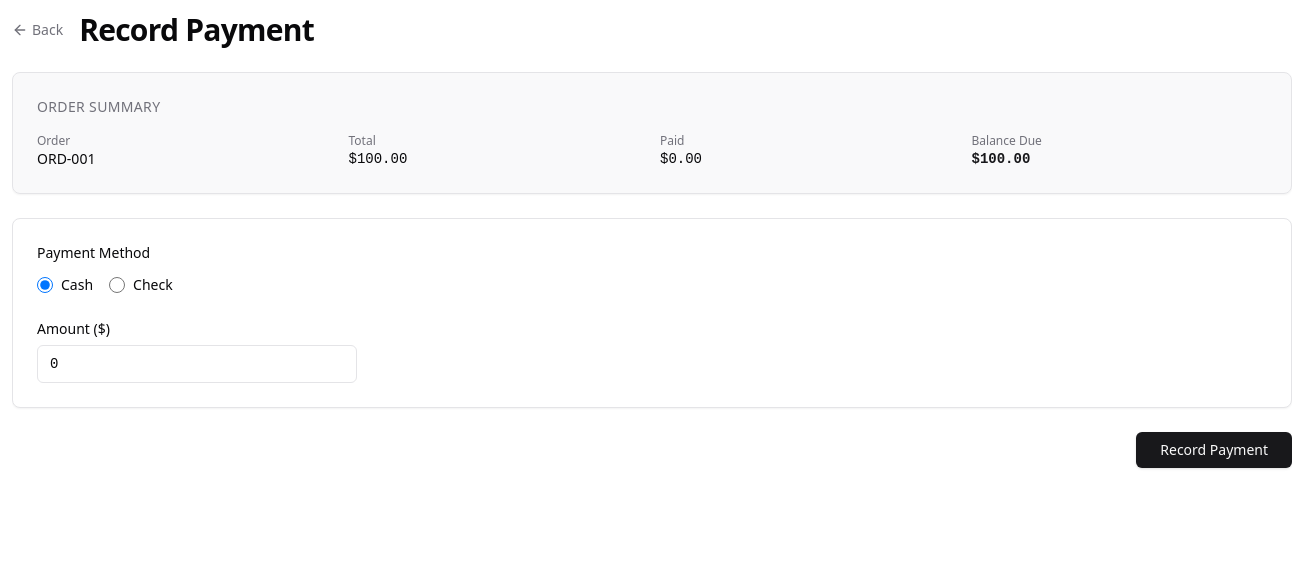
PaymentPage › shows check number field when Check is selected
This screenshot has width=1304, height=574.
Expected: the radio button labelled "Cash" is shown, x1=37 y1=277 x2=53 y2=293
Expected: the field labelled "Check Number" is not shown
# Select Check payment method
Click the radio button labelled "Check" at (117, 285), box x1=109 y1=277 x2=125 y2=293
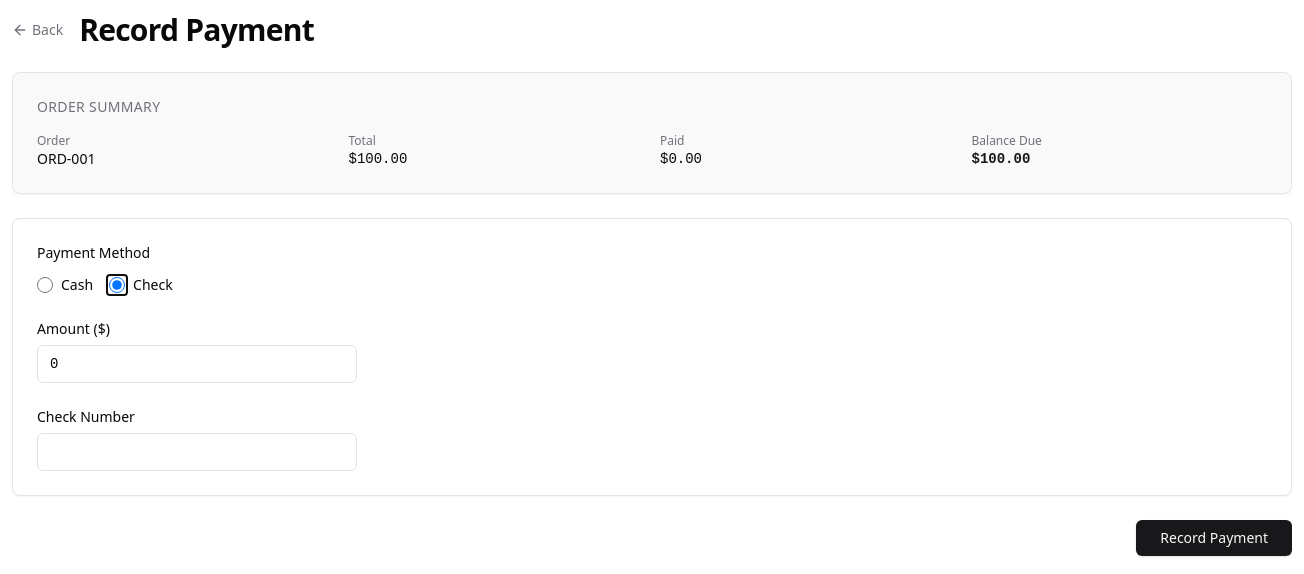
Result: the field labelled "Check Number" is shown at x1=37 y1=433 x2=357 y2=471
